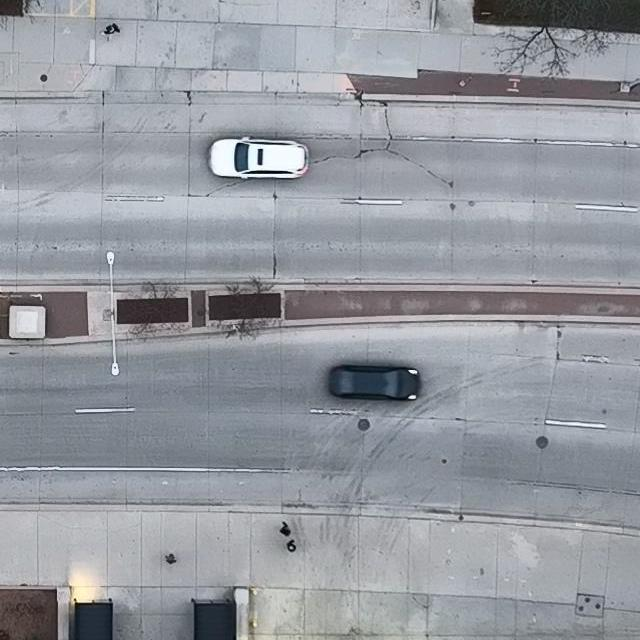car: (208, 135, 308, 180), (330, 365, 421, 402)
